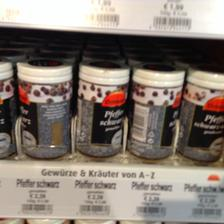Gewuerze: (14, 57, 74, 159), (74, 58, 130, 158), (128, 62, 183, 158), (178, 64, 223, 160)
